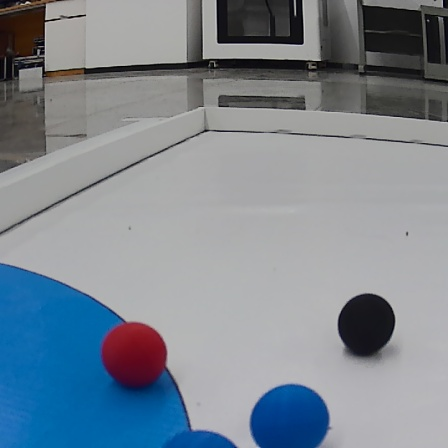black: (337, 294, 395, 357)
blue: (248, 384, 330, 448), (164, 429, 236, 448)
blue_base: (2, 256, 192, 448)
red: (102, 320, 168, 390)
